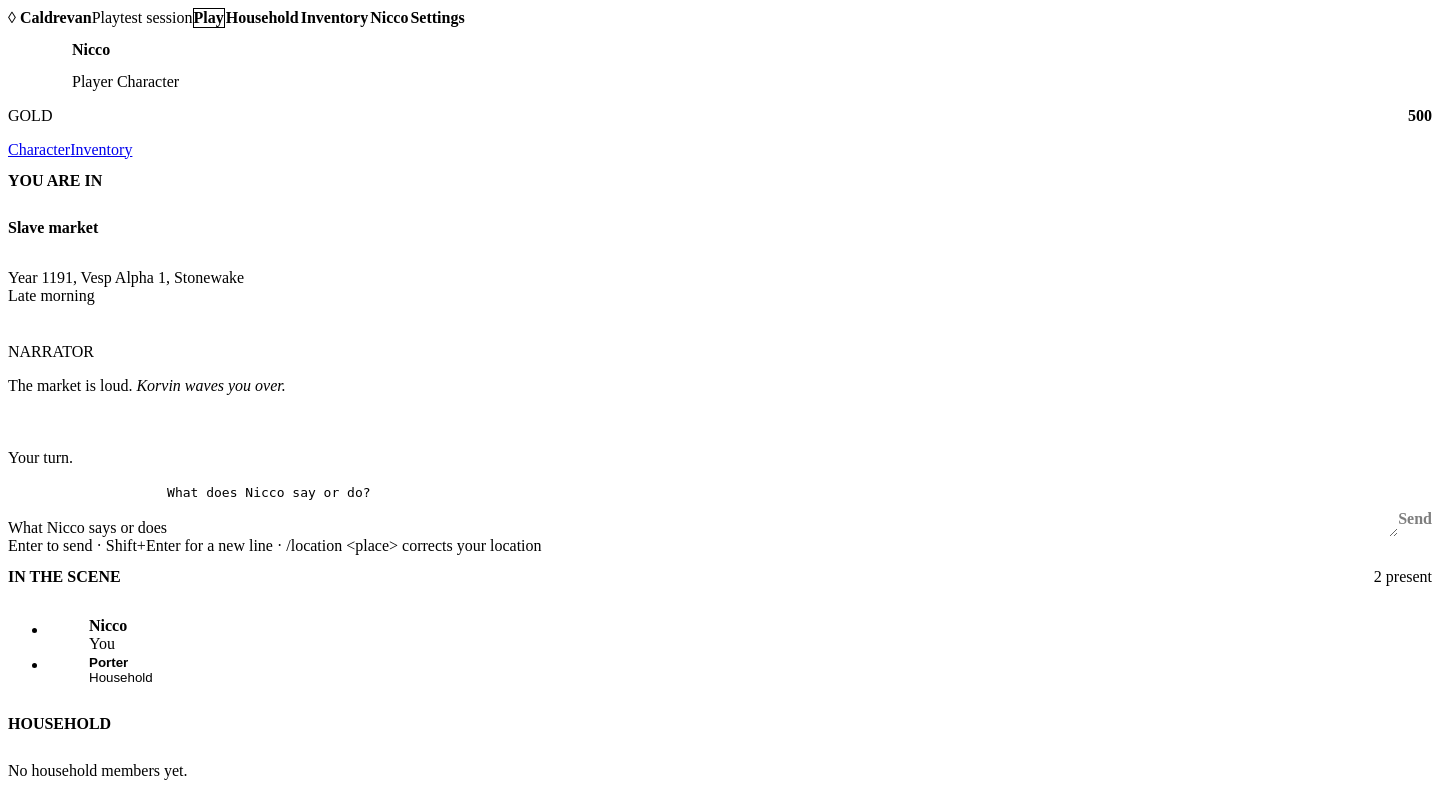
Test: character tiers: controls come from the engine's capabilities only › a campaign NPC keeps its read-only runtime information and no NPC+ controls, household membership or not
This screenshot has width=1440, height=810.
Click the button "Porter Household".
click(109, 662)  # box [48,654,1432,686]
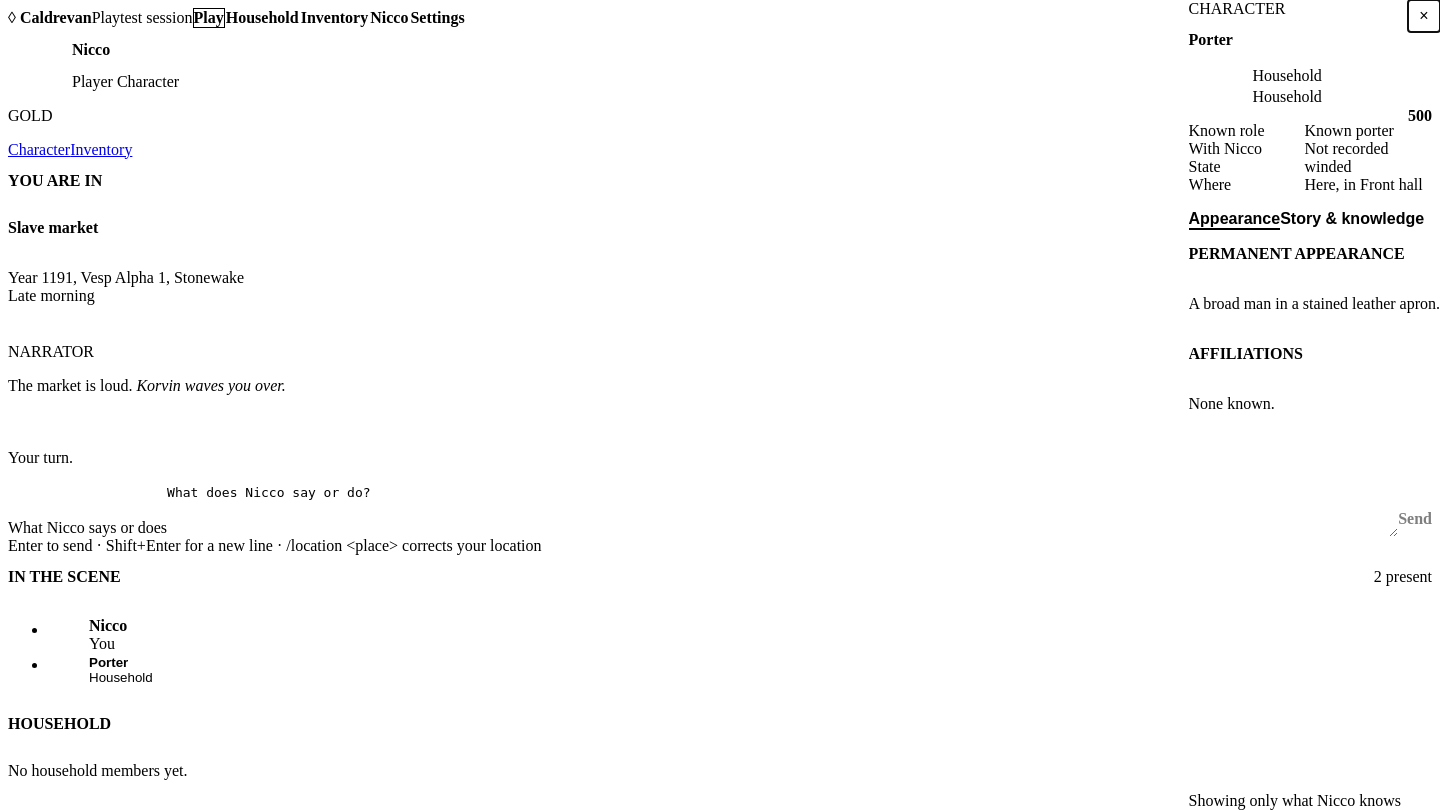
Expected: the dialog shows "Known porter", [1304,122,1394,139]
Expected: the dialog shows "winded", [1304,158,1352,175]
Expected: the dialog shows "Here, in Front hall", [1304,176,1423,193]
